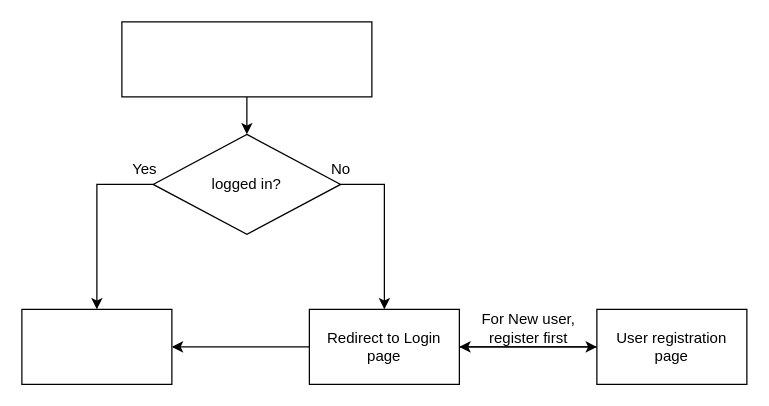
This 769x406 diagram has some shape labels left out. The shapes that lost their labels are listed below. From the top down, each one's centre as x and y in pixels, then its label:
At point (246, 59): "Request to access App".
At point (96, 346): "Give access - App UI".
